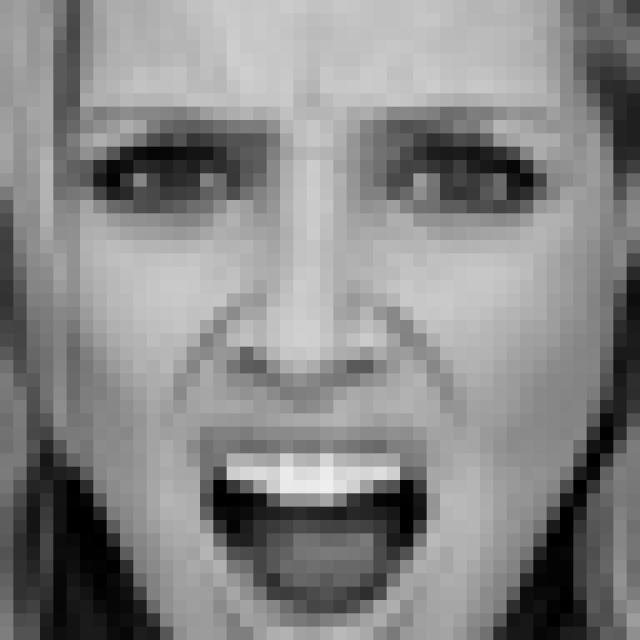angry: (65, 91, 562, 640)
